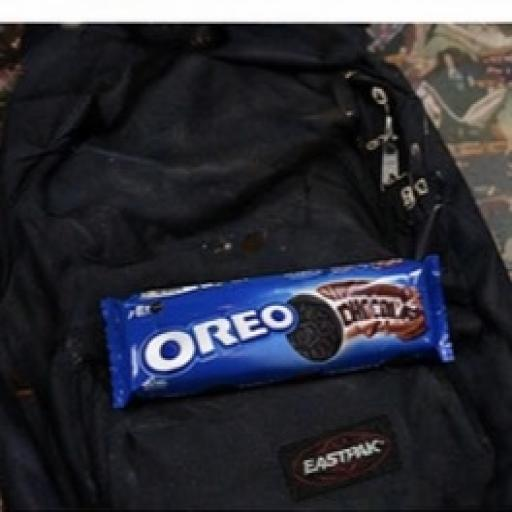oreo: (52, 217, 489, 466)
